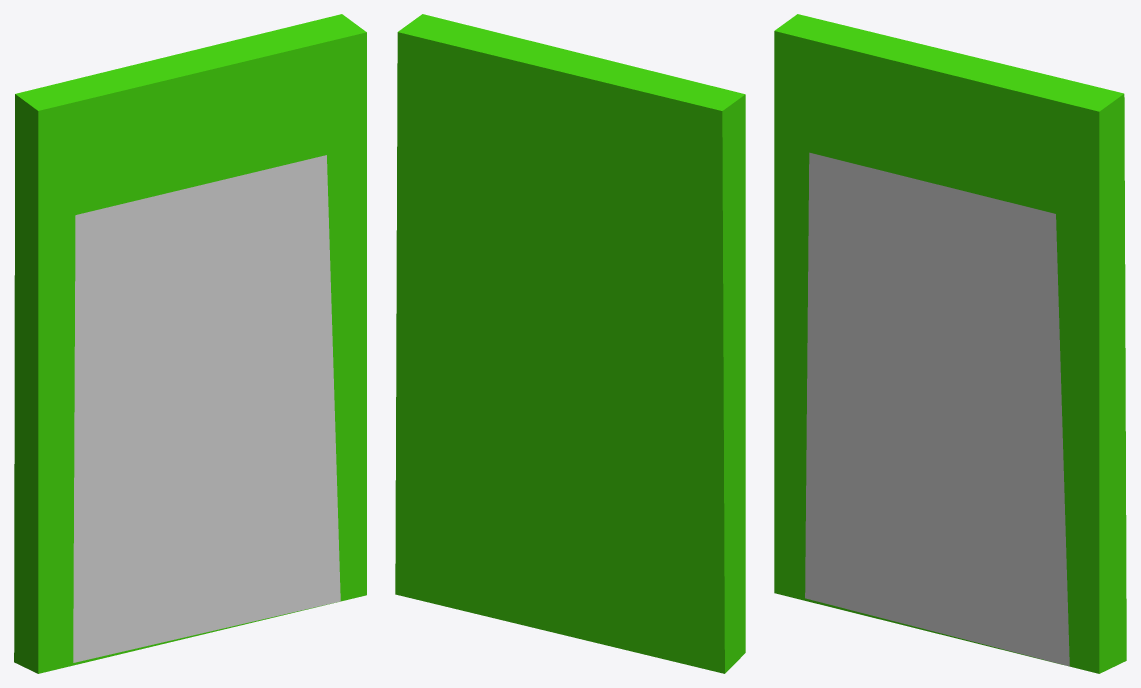
The model's file is Door_blender.fbx.
3 views of the same model, side by side, from view 1: azimuth 30°, elevation 25°; view 2: azimuth 150°, elevation 25°; view 3: azimuth 330°, elevation 25° (orthographic).
Visible parts, largest first — view 1: Cube; view 2: Cube; view 3: Cube.
Part boxes in pixels (x1,y1,x2,y2): Cube: (14, 14, 366, 673); Cube: (395, 14, 745, 673); Cube: (774, 14, 1126, 673).
Bounding box in the file's own units: 163 × 266 × 22.73.
